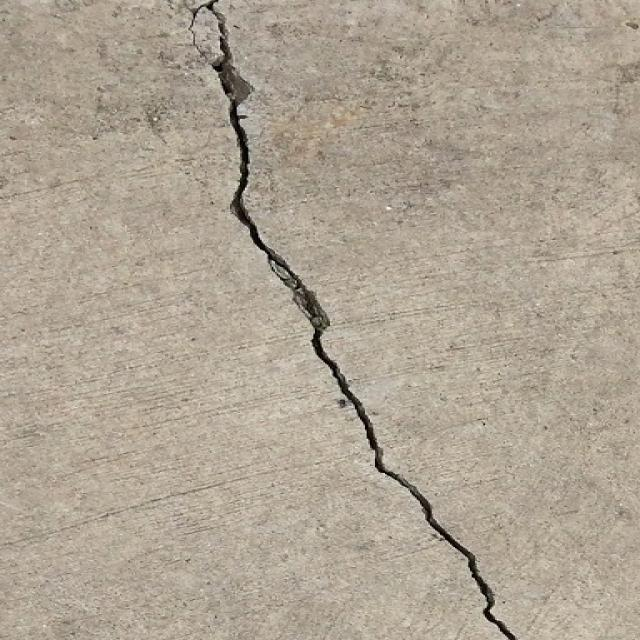Annular: (172, 0, 264, 118)
Diagonal: (219, 132, 516, 640)
